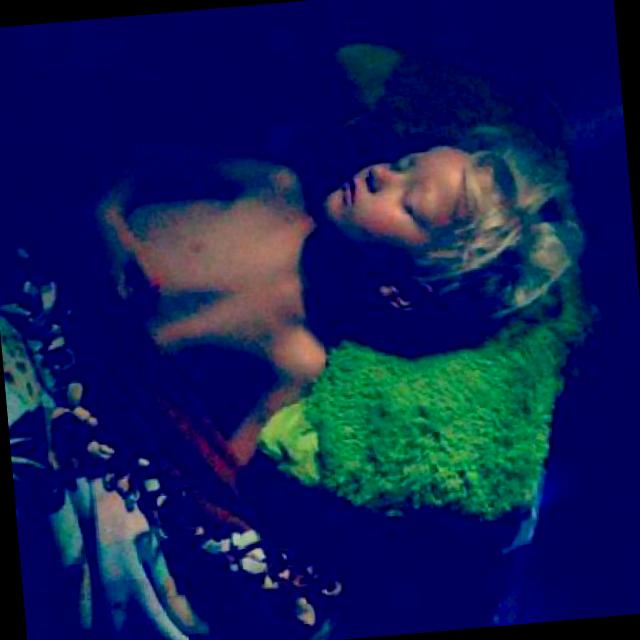Person: (83, 110, 601, 480)
